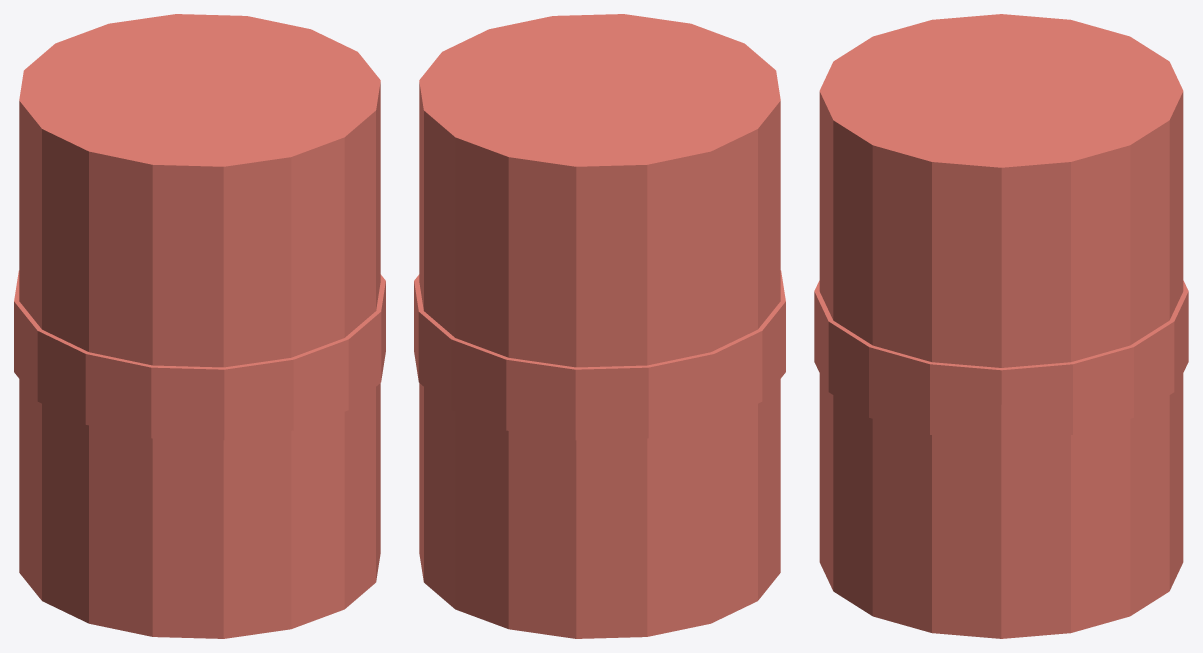
File: Toy_Bumper.fbx
The picture shows the model from 3 angles, left to right: view 1: azimuth 30°, elevation 25°; view 2: azimuth 150°, elevation 25°; view 3: azimuth 270°, elevation 25°; orthographic projection.
Parts seen in each view (by area): view 1: Toy_Bumper; view 2: Toy_Bumper; view 3: Toy_Bumper.
Boxes of the visible parts, <box> form: Toy_Bumper: <box>14,14,385,638</box>; Toy_Bumper: <box>414,14,785,638</box>; Toy_Bumper: <box>814,14,1188,638</box>.
Bounding box in the file's own units: 0.72 × 1 × 0.72.
